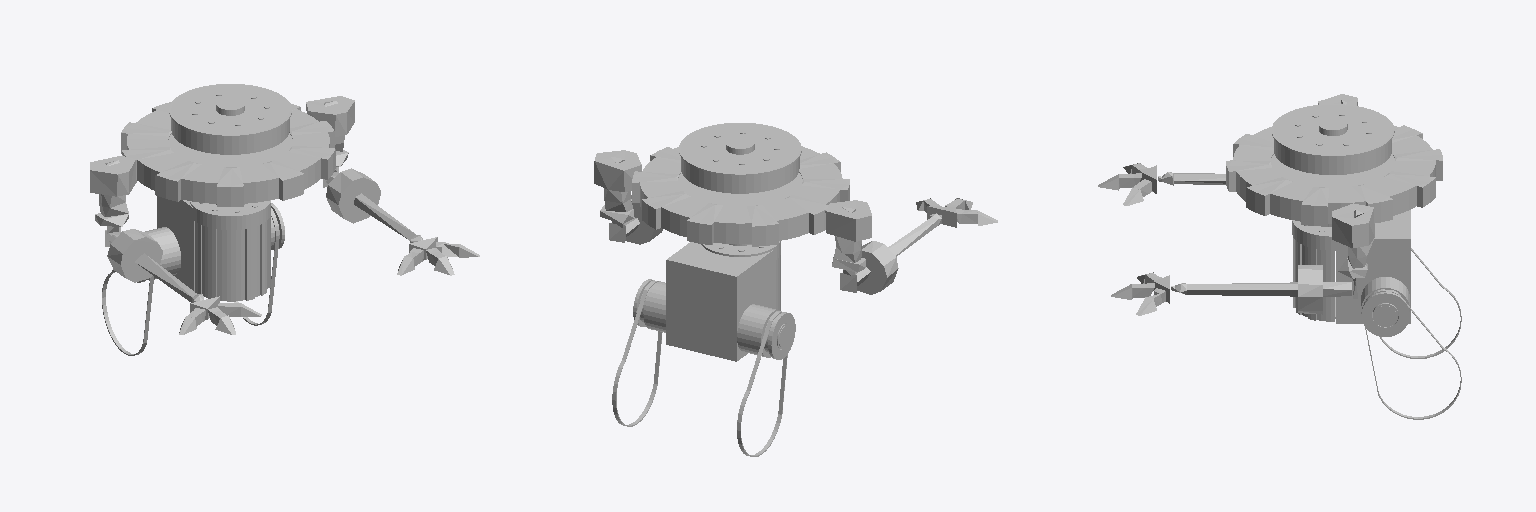
File: RobotRece_000001.obj
The picture shows the model from 3 angles: view 1: azimuth 30°, elevation 25°; view 2: azimuth 150°, elevation 25°; view 3: azimuth 270°, elevation 25°; orthographic projection.
Parts seen in each view (by area): view 1: Cylinder.007, Cube_Cube.003; view 2: Cylinder.007, Cube_Cube.003; view 3: Cylinder.007, Cube_Cube.003.
Part boxes in pixels (x1,y1,x2,y2): Cylinder.007: (102, 84, 335, 355); Cube_Cube.003: (90, 96, 479, 334); Cylinder.007: (612, 123, 849, 456); Cube_Cube.003: (594, 150, 997, 294); Cylinder.007: (1226, 104, 1461, 419); Cube_Cube.003: (1098, 94, 1374, 315).
Bounding box in the file's own units: 4.59 × 3.78 × 4.71.